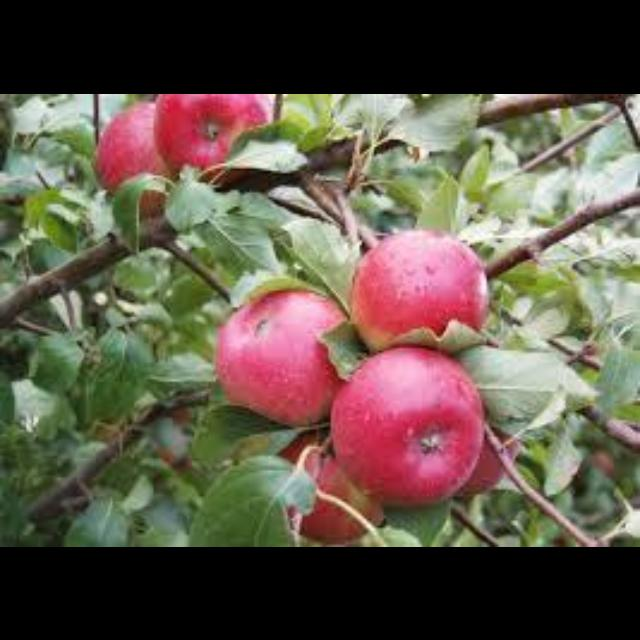apple: (333, 347, 482, 500), (216, 290, 343, 424), (350, 230, 487, 347), (278, 431, 381, 544), (153, 93, 271, 170), (96, 100, 170, 191), (458, 441, 503, 493), (139, 189, 163, 215), (506, 438, 518, 457)
